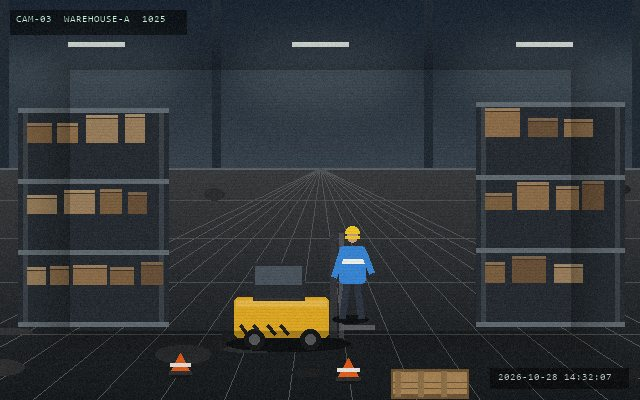cone: (335, 356, 361, 383), (168, 351, 192, 377)
forklift: (230, 230, 376, 351)
pallet: (389, 367, 470, 399)
person: (331, 224, 373, 322)
shelf: (476, 102, 624, 322), (18, 108, 168, 322)
